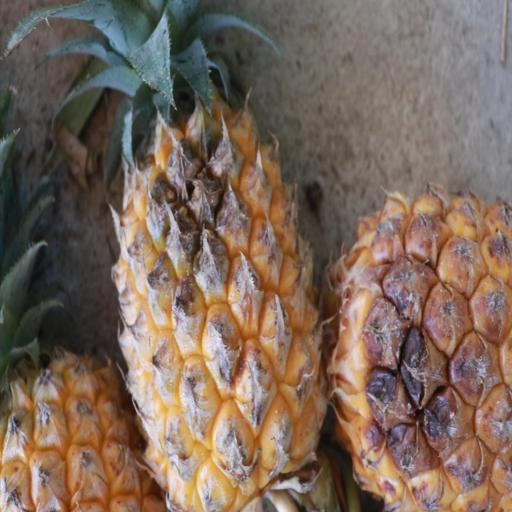Pineapple - v8 v1: (103, 4, 328, 512), (328, 191, 511, 512)
